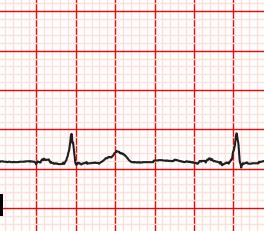LVH: (100, 146, 137, 165)
Poor R Progression: (59, 132, 79, 167)
